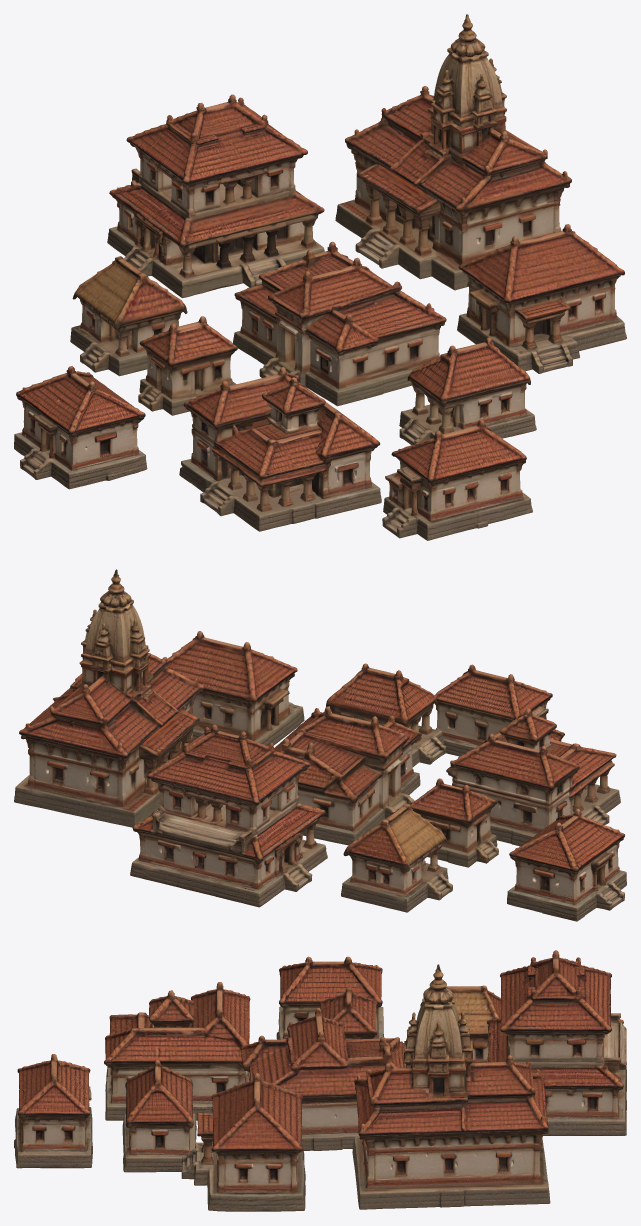
File: Medieval Village (South Asian).fbx
The picture shows the model from 3 angles, top to bottom: view 1: azimuth 30°, elevation 25°; view 2: azimuth 150°, elevation 25°; view 3: azimuth 270°, elevation 25°; orthographic projection. The views are drawn at different scales.
Parts seen in each view (by area): view 1: tripo_node_ad192b60; view 2: tripo_node_ad192b60; view 3: tripo_node_ad192b60.
Boxes of the visible parts, x1=… form: tripo_node_ad192b60: x1=14, y1=14, x2=626, y2=540; tripo_node_ad192b60: x1=14, y1=569, x2=626, y2=921; tripo_node_ad192b60: x1=14, y1=950, x2=626, y2=1211.
Bounding box in the file's own units: 1 × 0.5031 × 0.9992.
